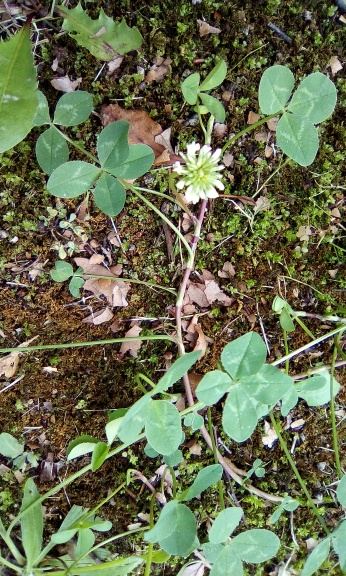4leaf: (195, 330, 293, 443), (46, 121, 156, 217)
